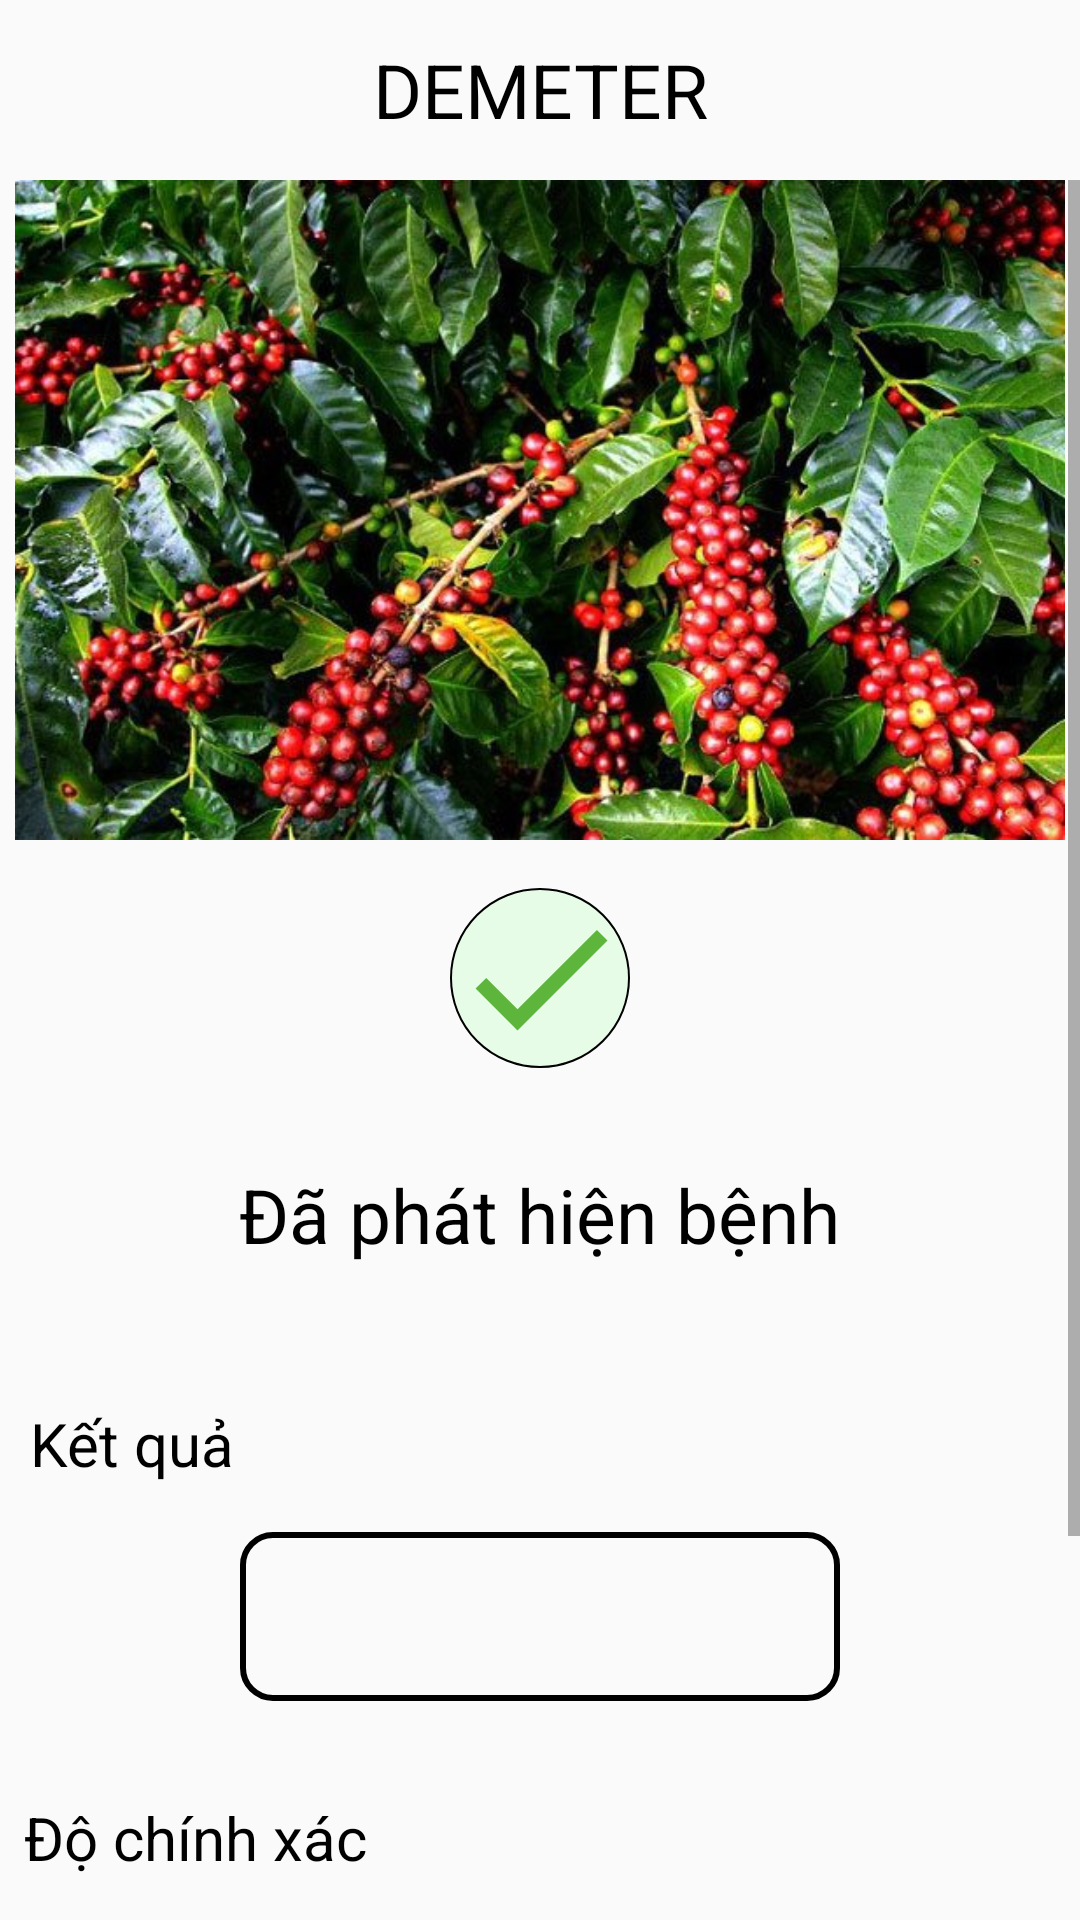

Screen size 1080w x 1920h. Icon name, then its center in pixels as [x,y]:
check: [540,978]
